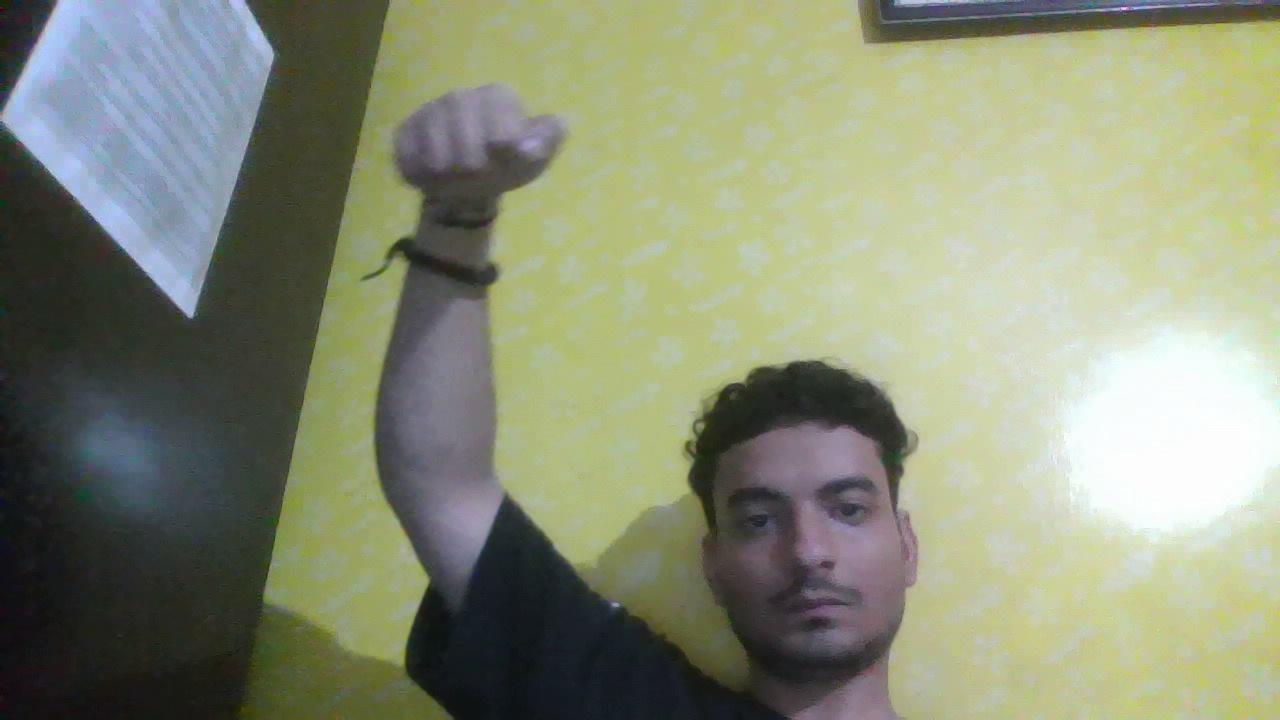Yes: (377, 62, 587, 228)
